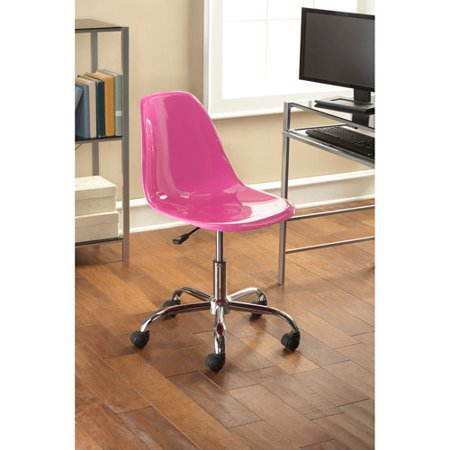chairs: (131, 91, 306, 373)
